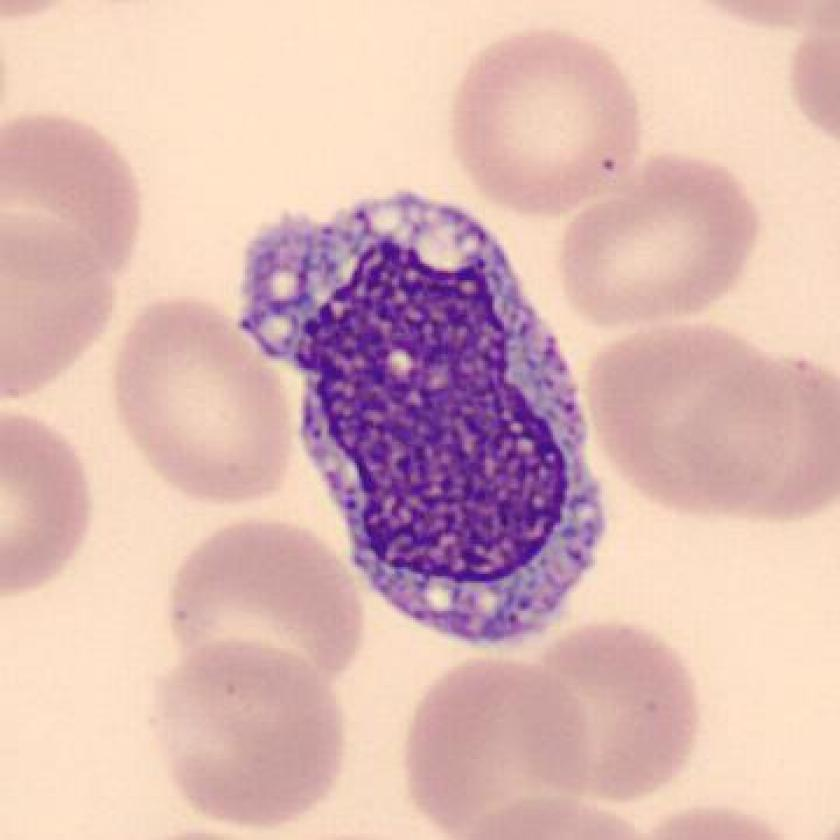monocyte: (218, 174, 640, 663)
